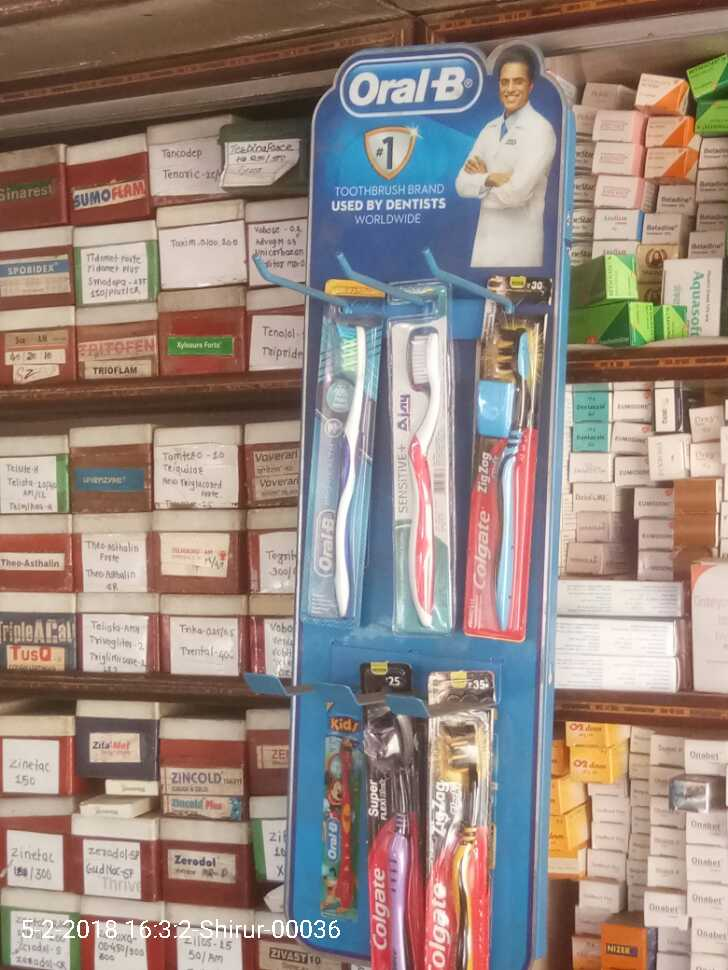oralb: (301, 276, 375, 622)
